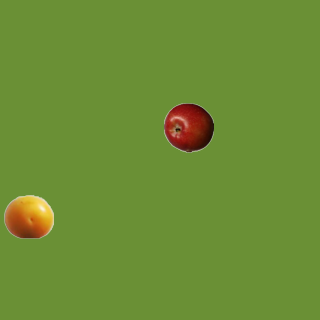Apple Braeburn: (163, 102, 213, 152)
Cherry Wax Yellow: (3, 191, 53, 241)
